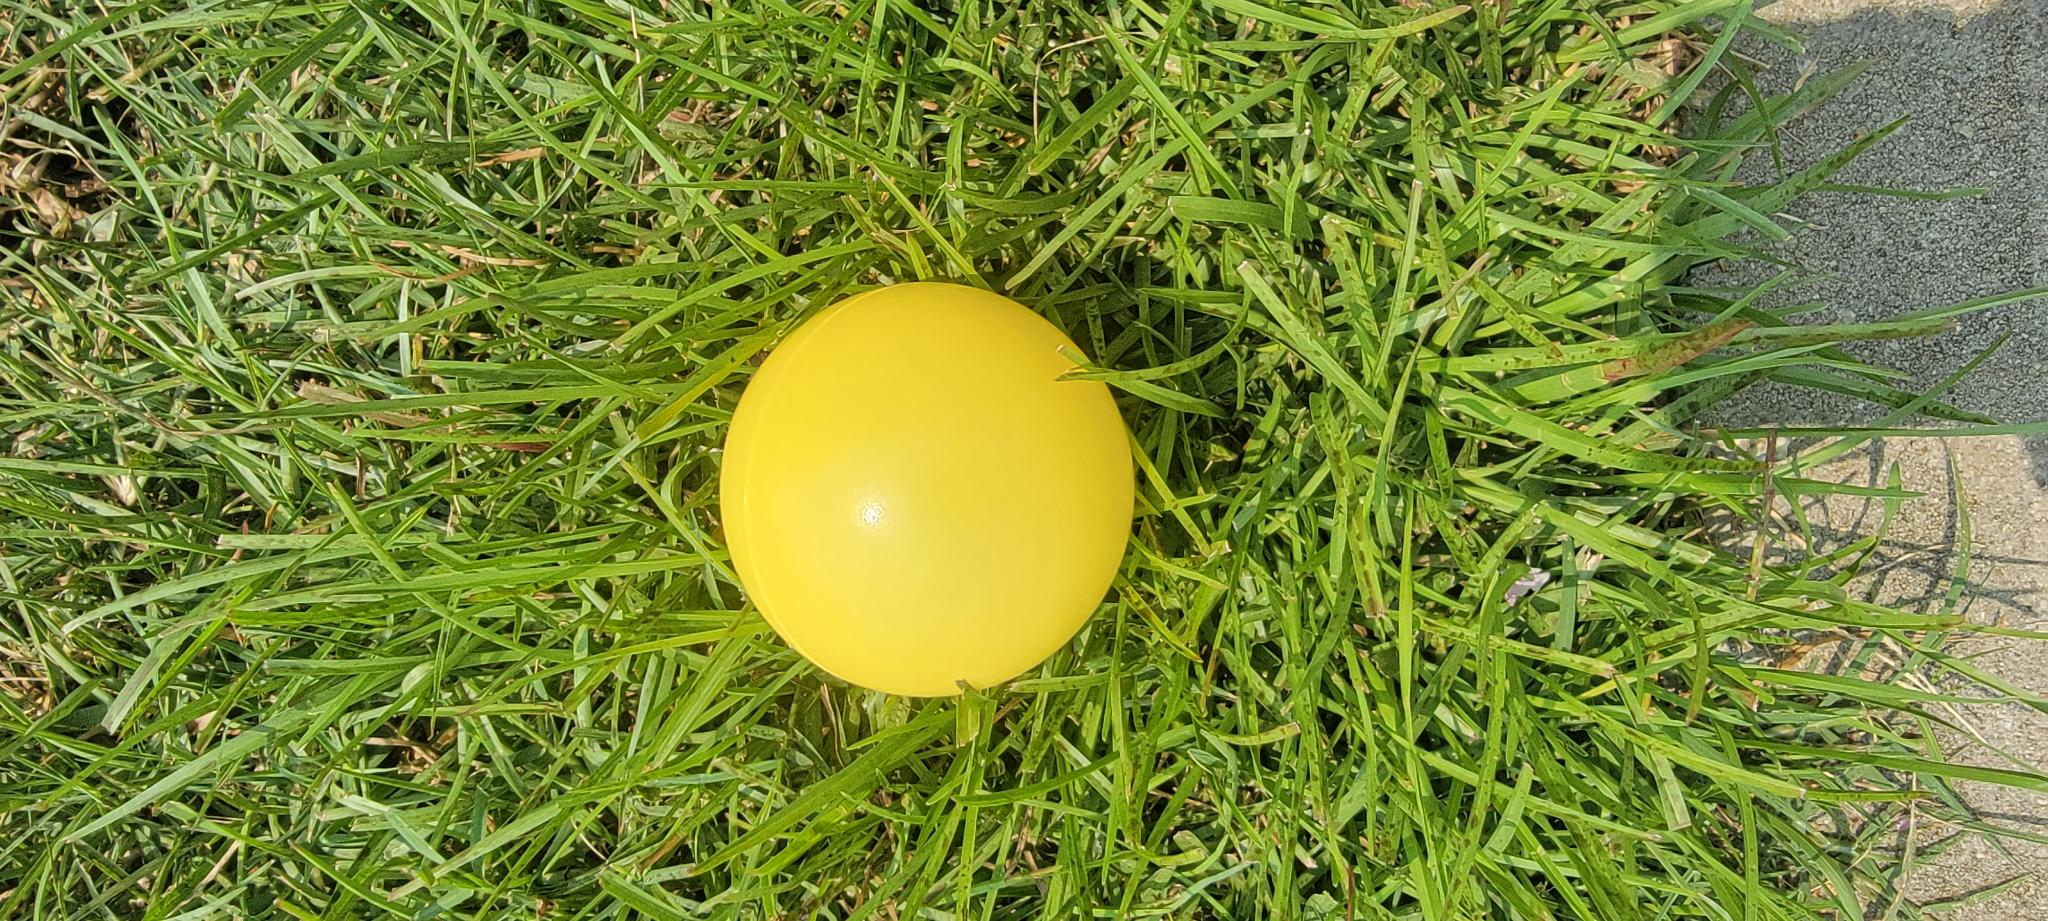Yellow-Ball: (221, 719, 637, 921)
